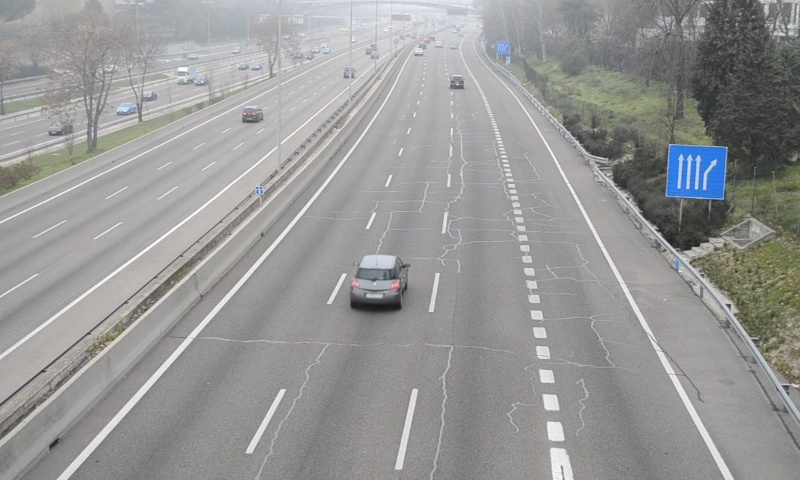car: (350, 254, 406, 306), (450, 74, 465, 89)
